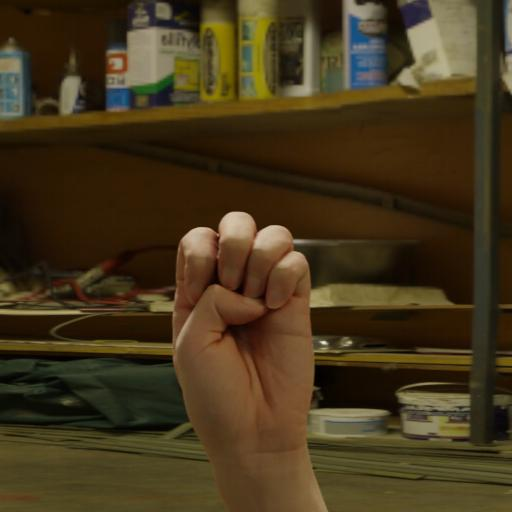E: (126, 191, 355, 493)
